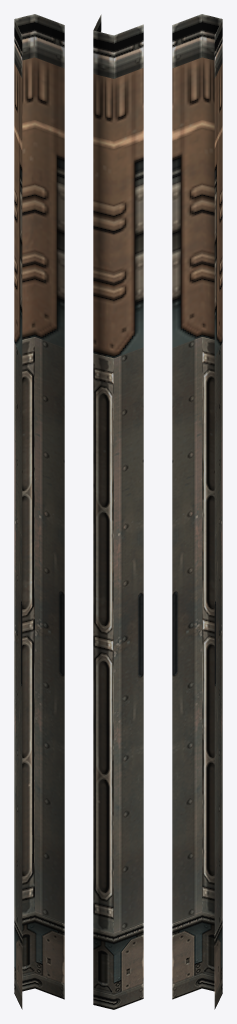
The model's file is mprw_pillar_wall_connect.FBX.
The picture shows the model from 3 angles, left to right: view 1: azimuth 30°, elevation 25°; view 2: azimuth 150°, elevation 25°; view 3: azimuth 330°, elevation 25°; orthographic projection.
Visible parts, largest first — view 1: mprw_pillar_wall_connect; view 2: mprw_pillar_wall_connect; view 3: mprw_pillar_wall_connect.
Boxes of the visible parts, box(x1,y1,x2,y2) form: mprw_pillar_wall_connect: box(14, 14, 64, 1009); mprw_pillar_wall_connect: box(93, 14, 143, 1009); mprw_pillar_wall_connect: box(172, 14, 222, 1009).
Bounding box in the file's own units: 45.73 × 1003 × 35.19.
Materials: 1 (1 with a texture image).
